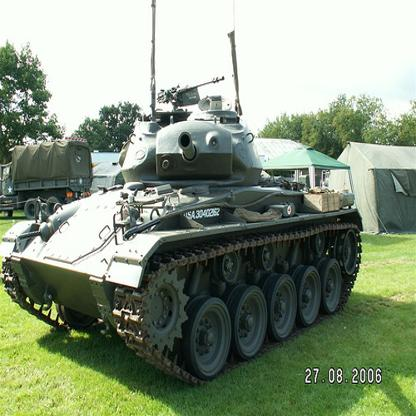Tank: (2, 75, 369, 381)
